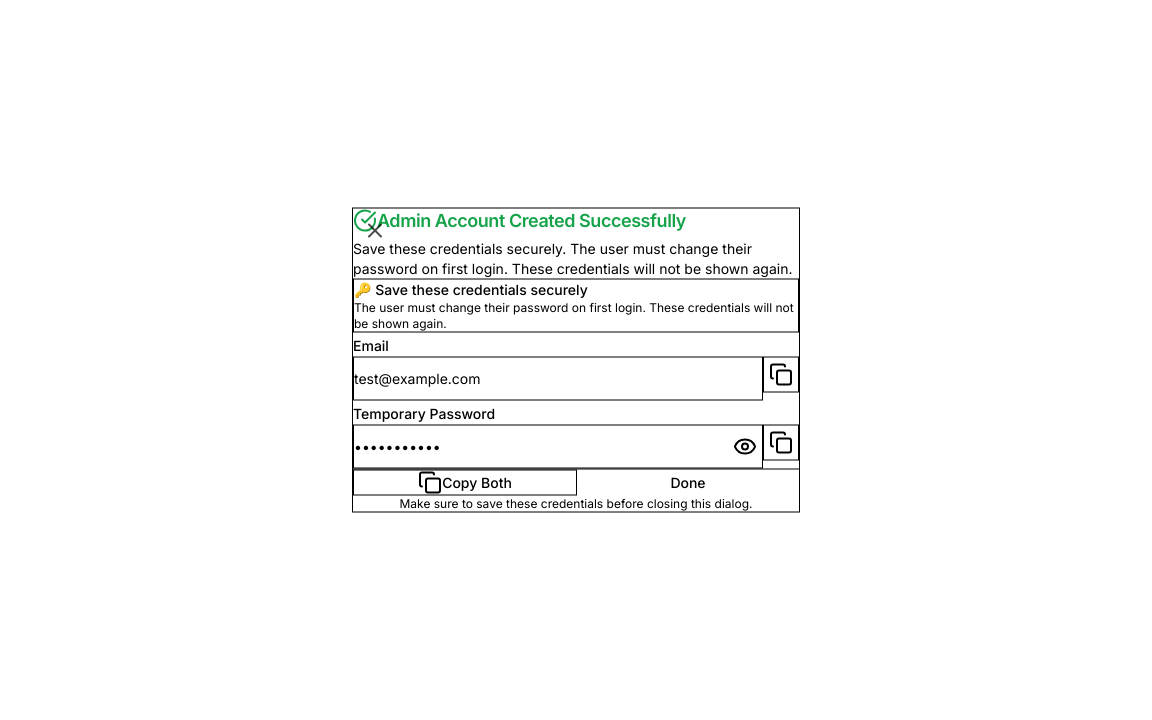
Test: CredentialsDisplay › should toggle password visibility
# Click to show
What coordinates should you click on to do the following:
click the button named "Show password"
I would click on:
 (745, 446)
Its box is [727,424,763,468].
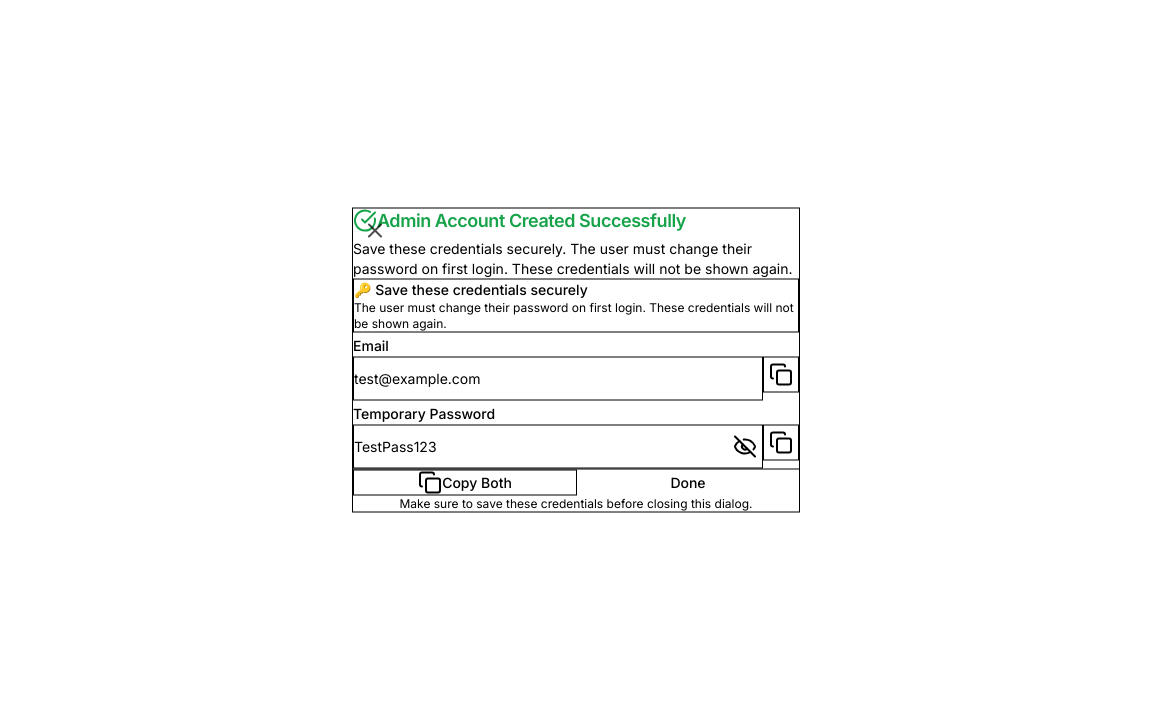
Expected: the field showing "TestPass123" shows its text, [353,424,763,468]
Expected: the button named "Hide password" is shown
# Click to hide again
What coordinates should you click on to do the following:
click the button named "Hide password"
I would click on:
 (745, 446)
Its box is [727,424,763,468].
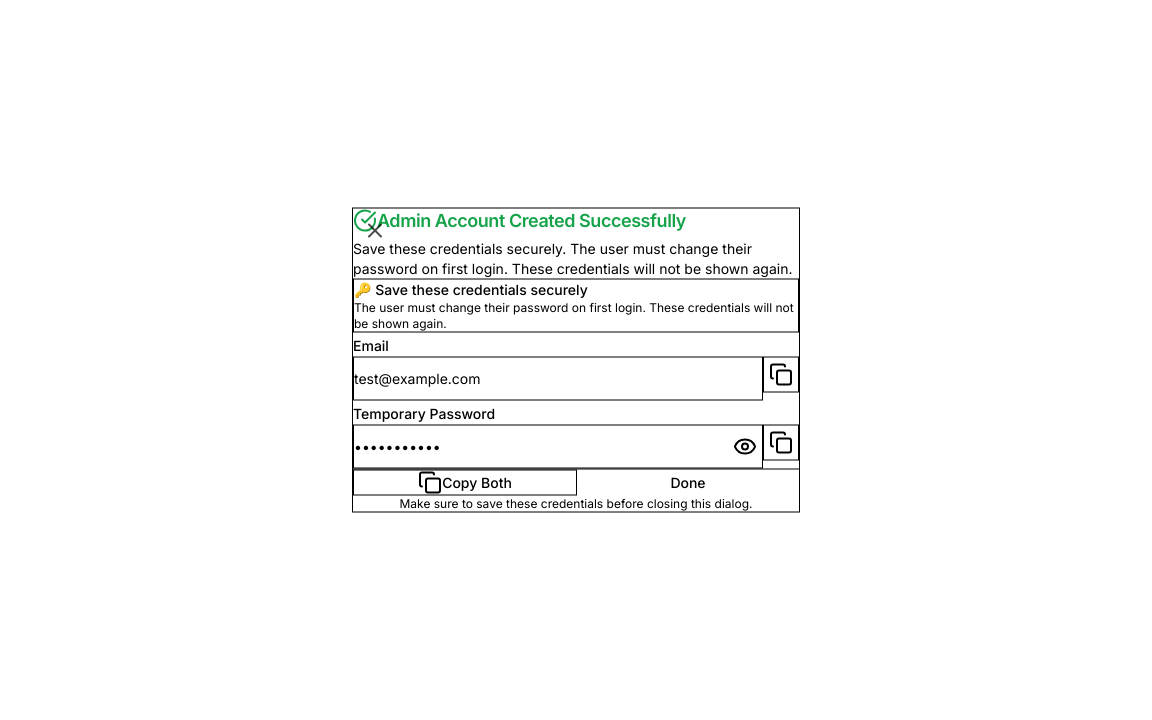
Expected: the password field showing "TestPass123" hides its text, [353,424,763,468]
